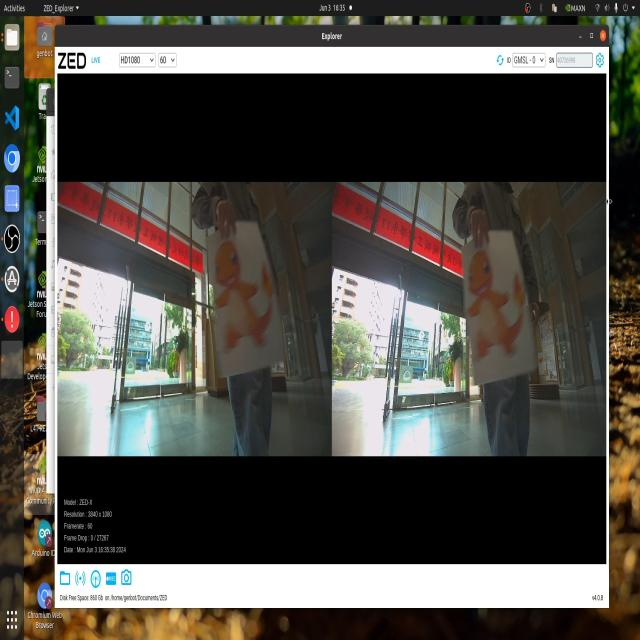red: (462, 235, 529, 359), (213, 241, 277, 333)
